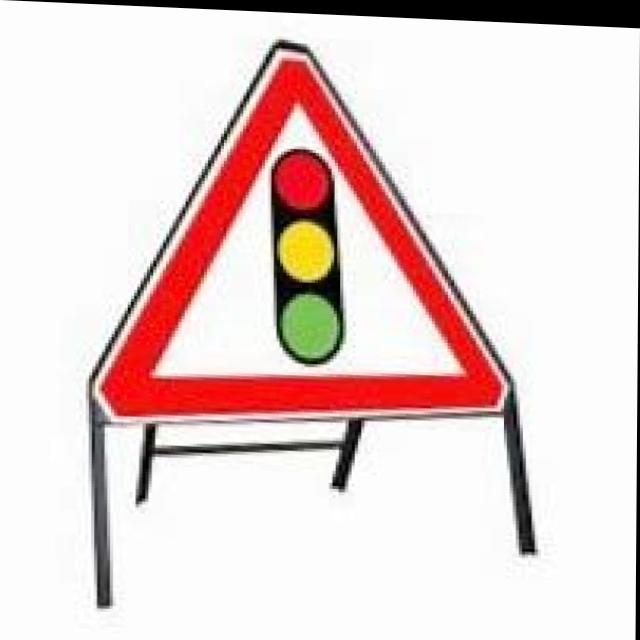TRAFFIC_SIGNAL: (75, 23, 532, 444)
